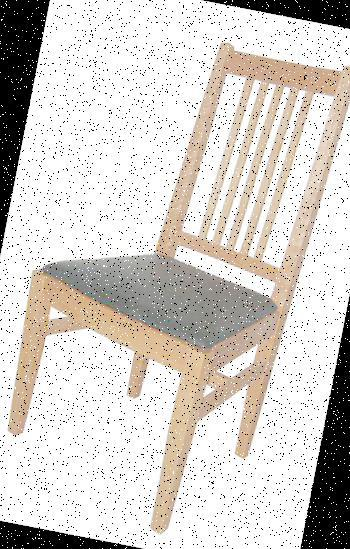Silla: (0, 8, 349, 547)
